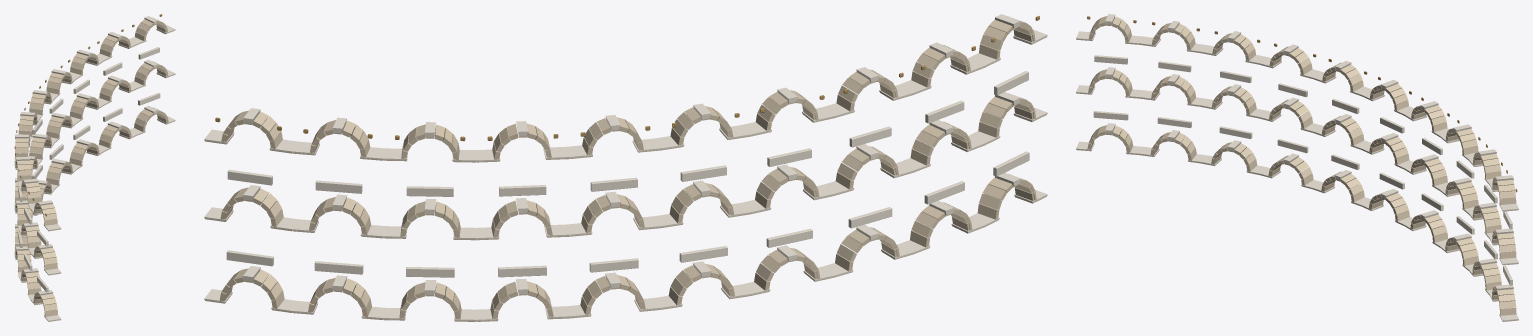
Rendered from COL_ExteriorArcade_Q3.glb.
3 renders of one model, left to right at view 1: azimuth 30°, elevation 25°; view 2: azimuth 150°, elevation 25°; view 3: azimuth 270°, elevation 25°, orthographic. The views are drawn at different scales.
Visible parts, largest first — view 1: COL_ExteriorArcade_Q3; view 2: COL_ExteriorArcade_Q3; view 3: COL_ExteriorArcade_Q3.
Part boxes in pixels (x1,y1,x2,y2): COL_ExteriorArcade_Q3: (14,14,175,321); COL_ExteriorArcade_Q3: (204,14,1047,321); COL_ExteriorArcade_Q3: (1076,14,1518,321).
Size of the model in its own units: 110 by 37.63 by 115.
